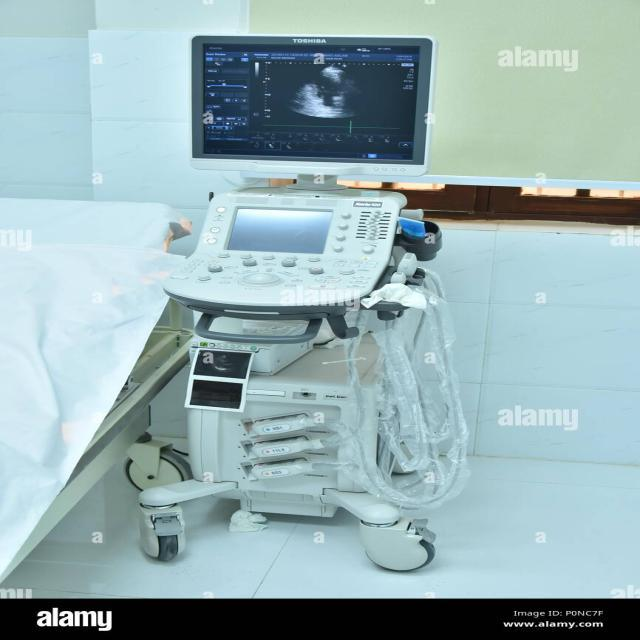Monitor: (128, 28, 497, 570)
bed: (5, 201, 184, 597)
